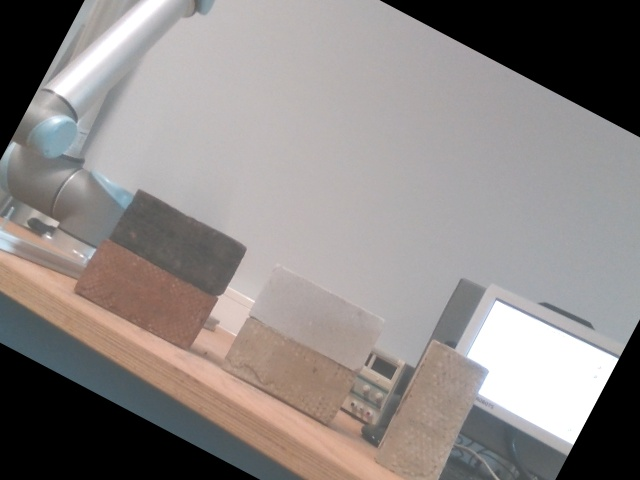brick: (376, 346, 489, 479), (223, 318, 357, 423), (112, 190, 246, 294), (79, 241, 213, 345), (251, 266, 385, 370)
